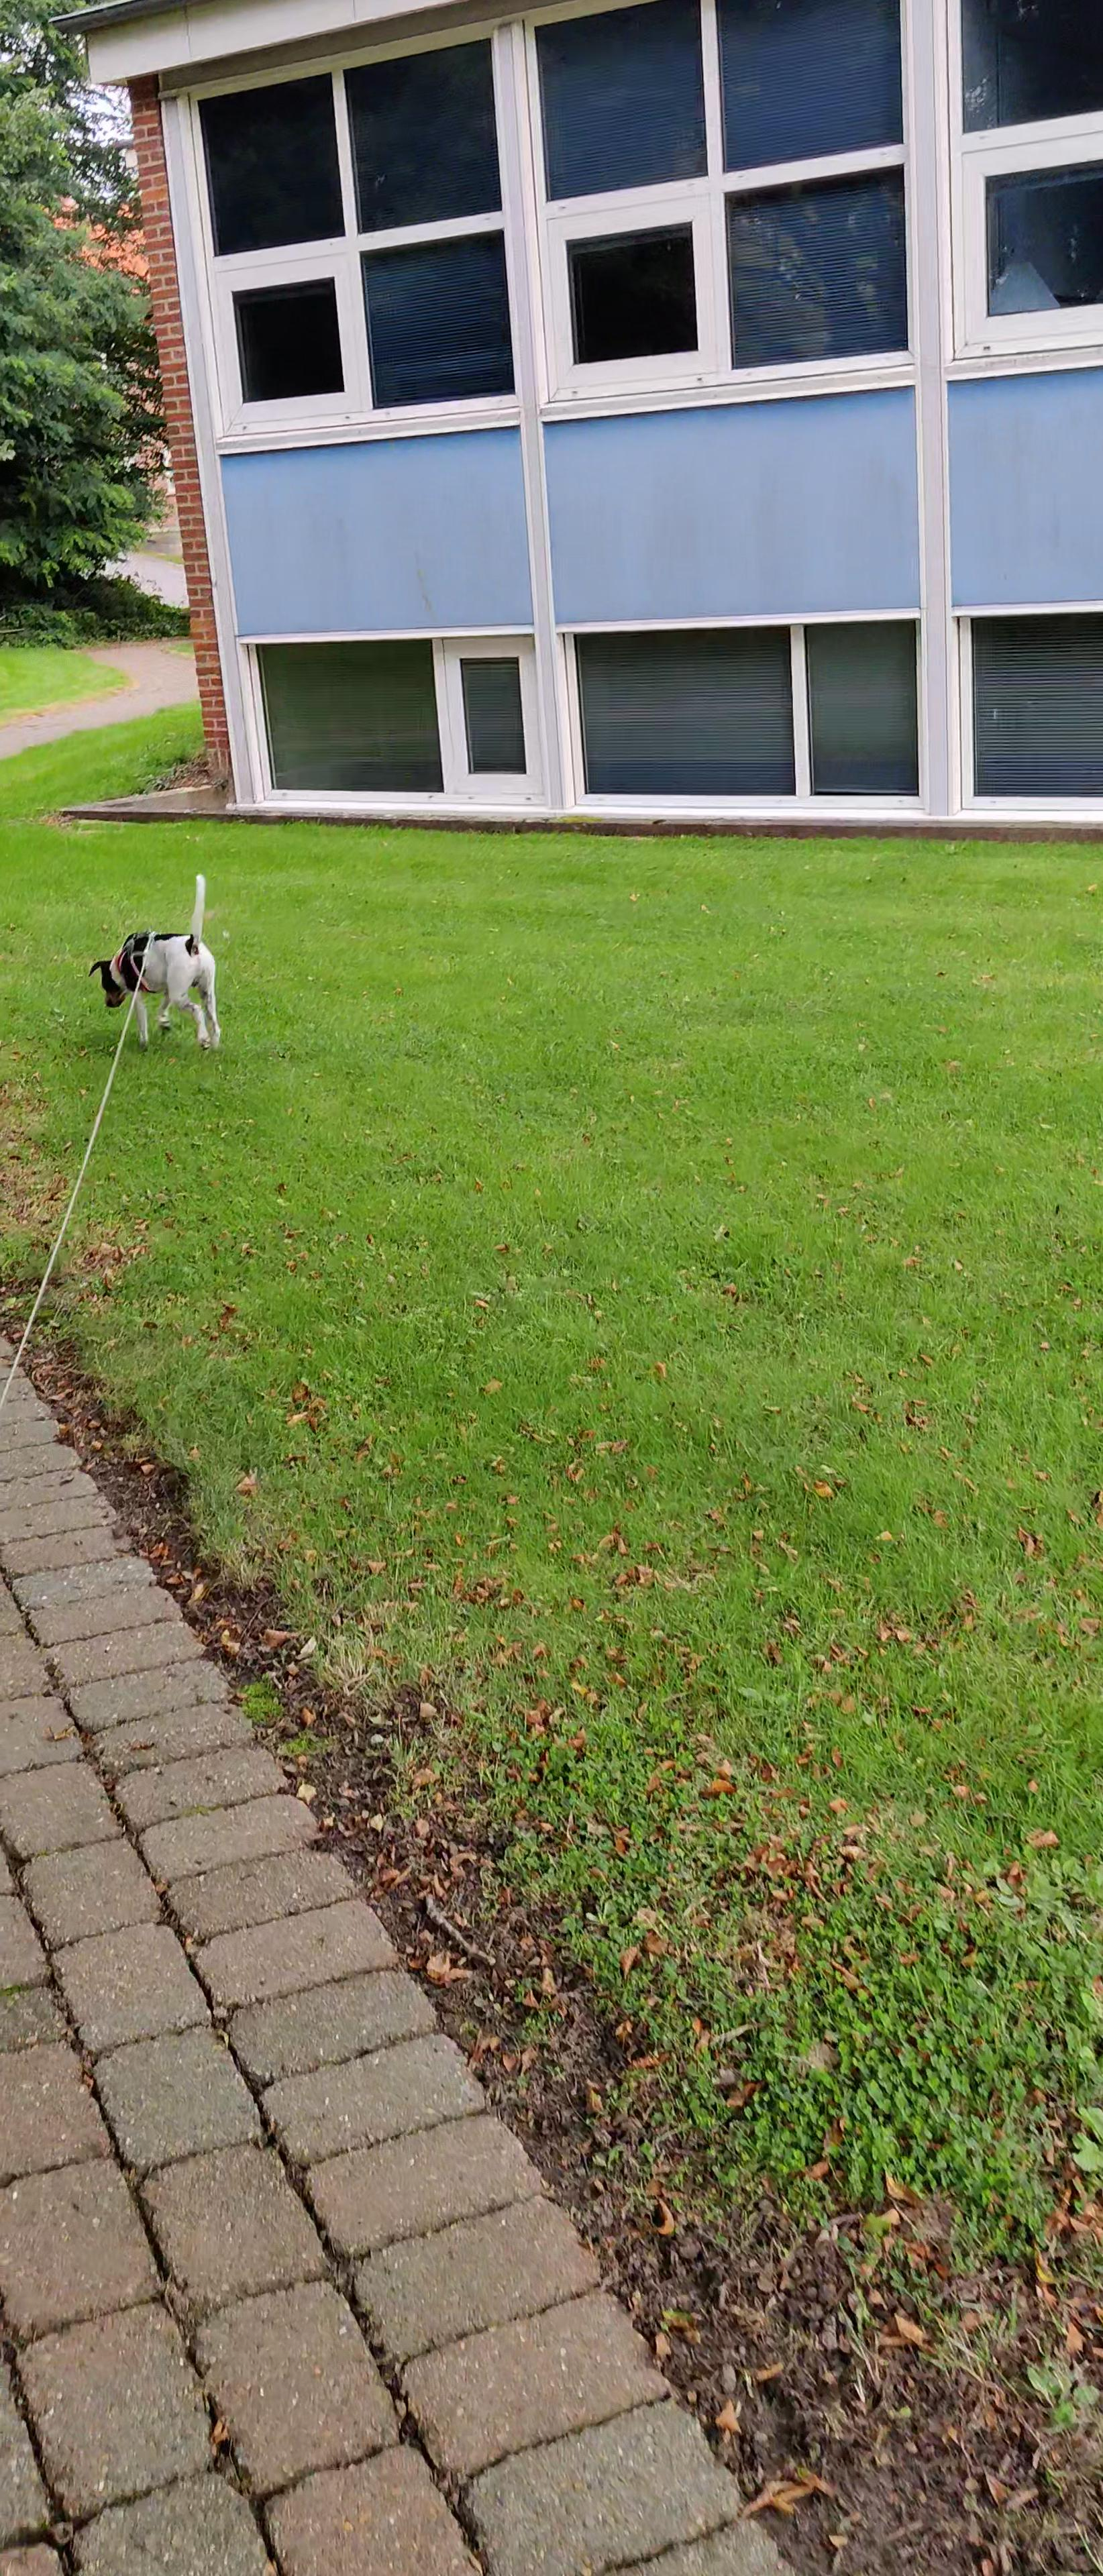Dog: (81, 858, 230, 1058)
